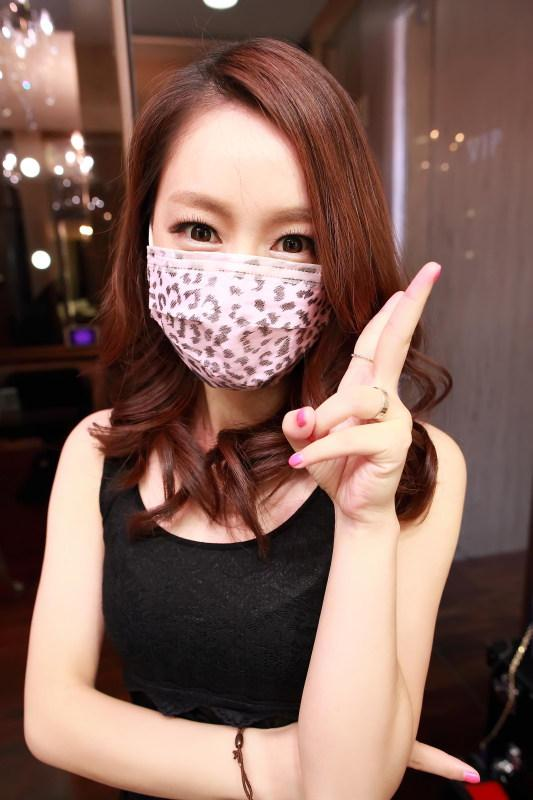OK: (143, 183, 343, 383)
